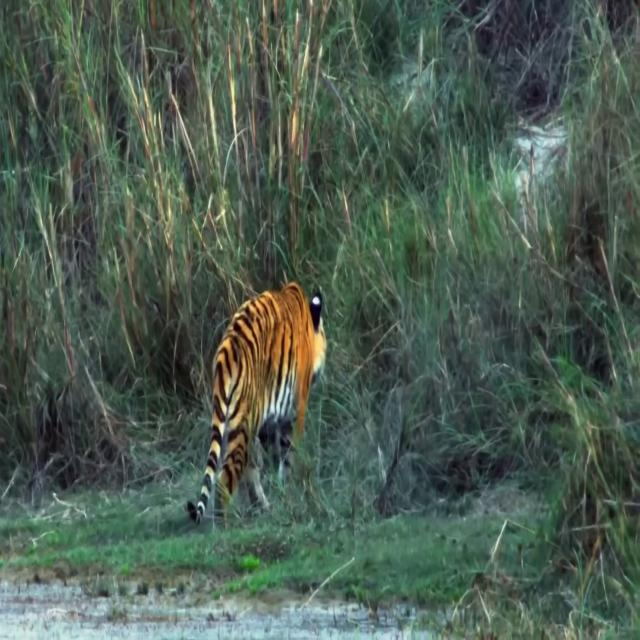tiger: (188, 278, 328, 523)
